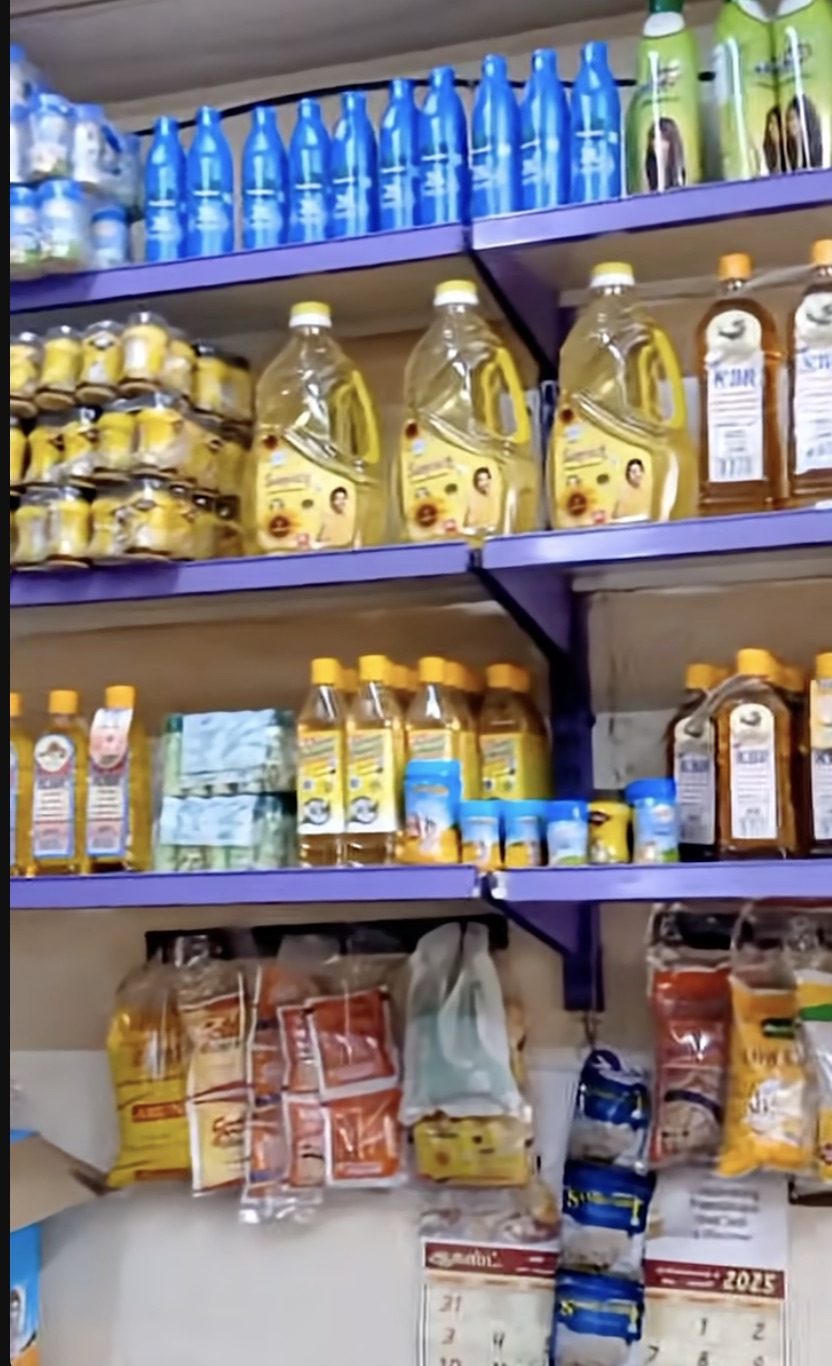parachute: (3, 307, 257, 570)
